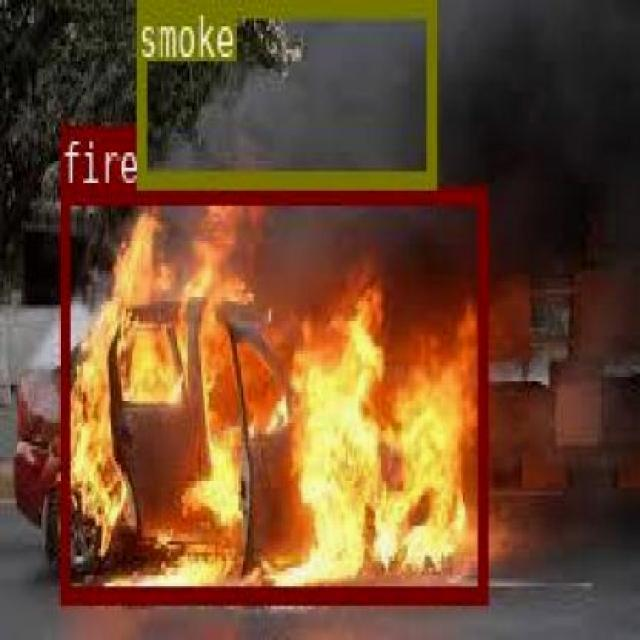fire: (59, 186, 486, 602)
smoke: (137, 0, 436, 183)
